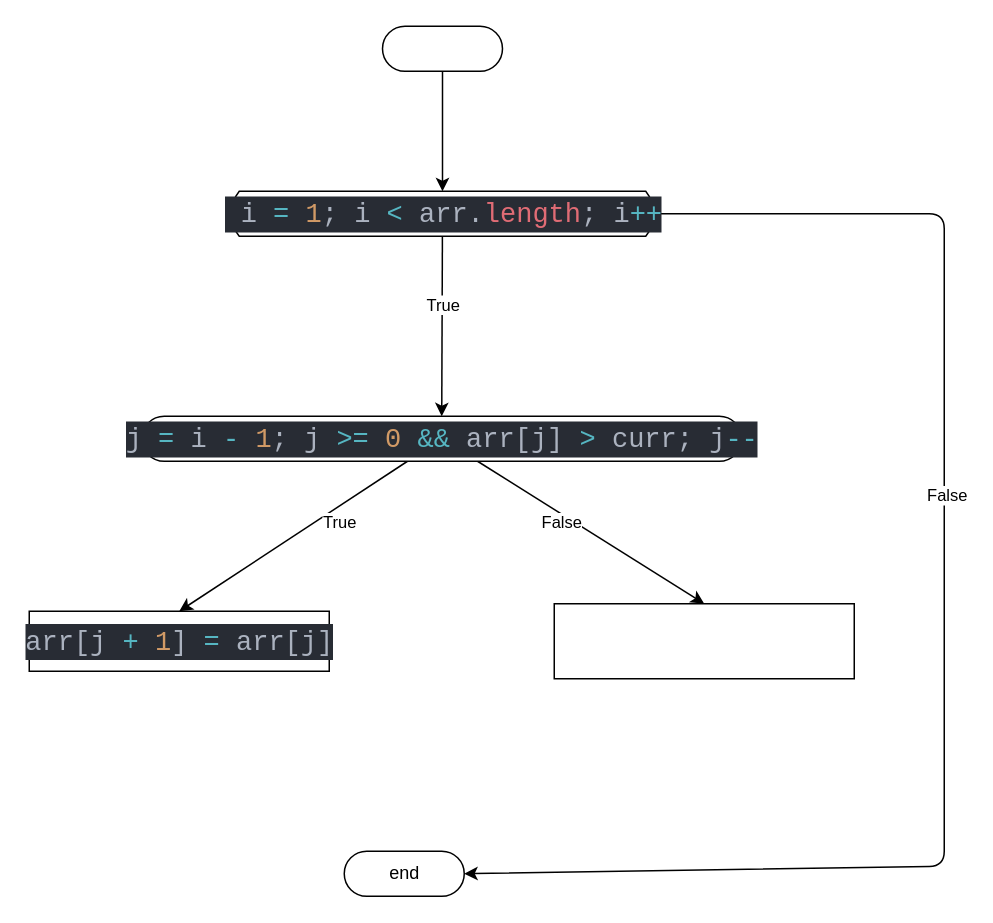
The diagram is 993 pixels wide and 923 high, and some of its shapes have lost their labels. Each missing label, with the centre of its shape:
"arr[j + 1 ] = curr;" goes at pixel 703 640.
"start" goes at pixel 441 48.
